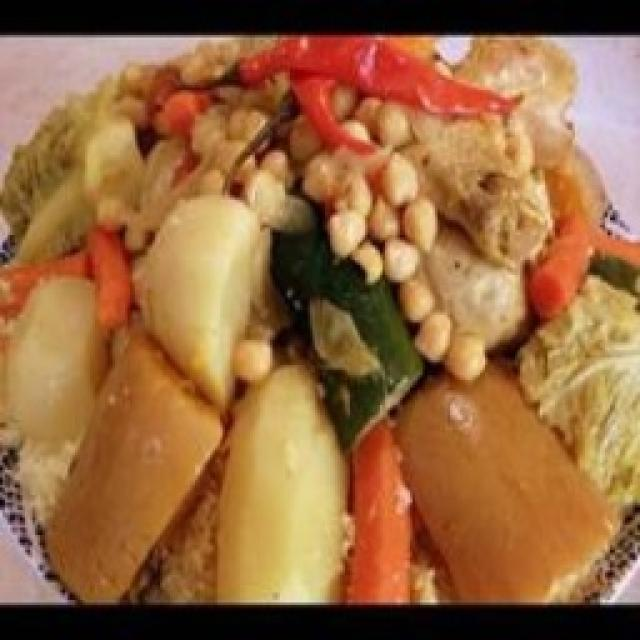Couscous: (0, 38, 640, 602)
